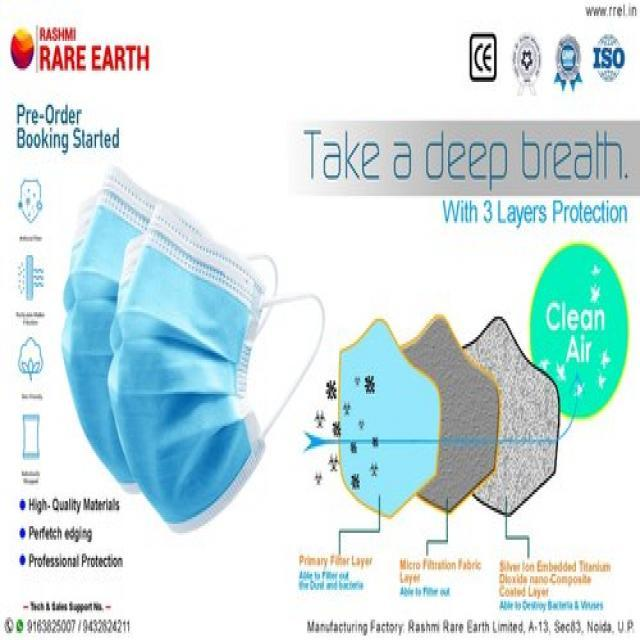face mask: (60, 164, 324, 533)
